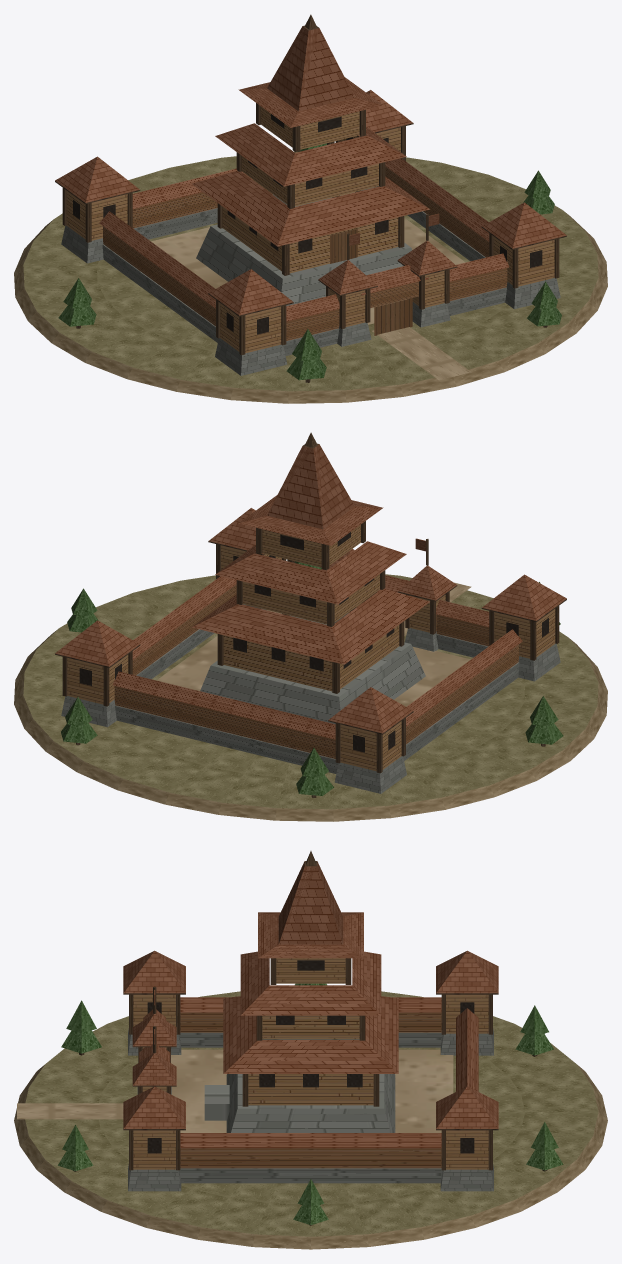
File: keep_large_lod1.glb
3 renders of one model, top to bottom at view 1: azimuth 30°, elevation 25°; view 2: azimuth 150°, elevation 25°; view 3: azimuth 270°, elevation 25°, orthographic.
Parts seen in each view (by area): view 1: keep_large_lod1; view 2: keep_large_lod1; view 3: keep_large_lod1.
Boxes of the visible parts, x1=… form: keep_large_lod1: x1=14, y1=14, x2=607, y2=403; keep_large_lod1: x1=14, y1=432, x2=607, y2=821; keep_large_lod1: x1=14, y1=851, x2=607, y2=1249.
Size of the model in its own units: 1.89 by 0.9261 by 1.84.
Materials: 1 (1 with a texture image).
